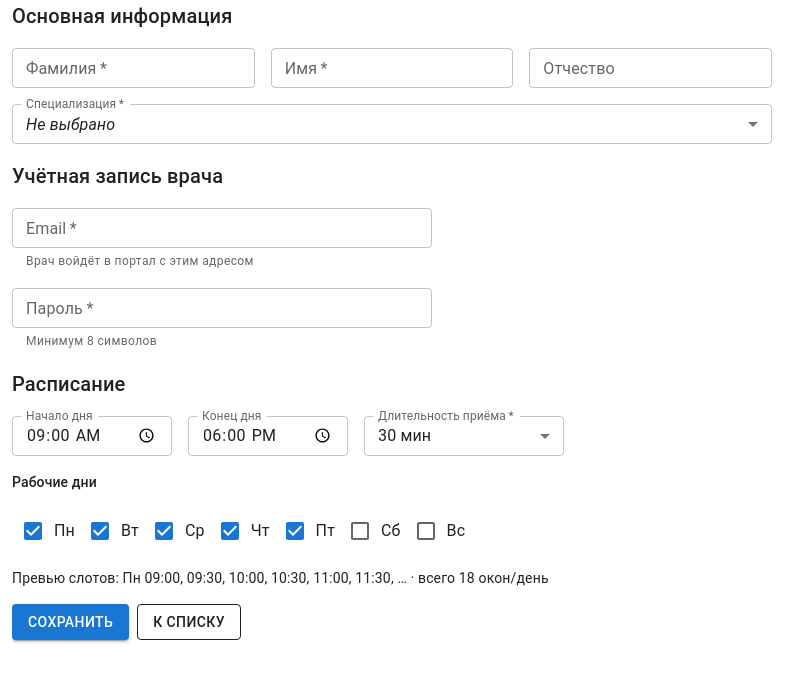
DoctorForm (3.2: форма врача) › селектор длительности: старт 30, только опции 5/10/15/20/30 (кратно часу)
Note: открываются только допустимые длительности
Press the mouse on the dropdown named "Длительность приёма" at (405, 436), box [378,426,431,445]
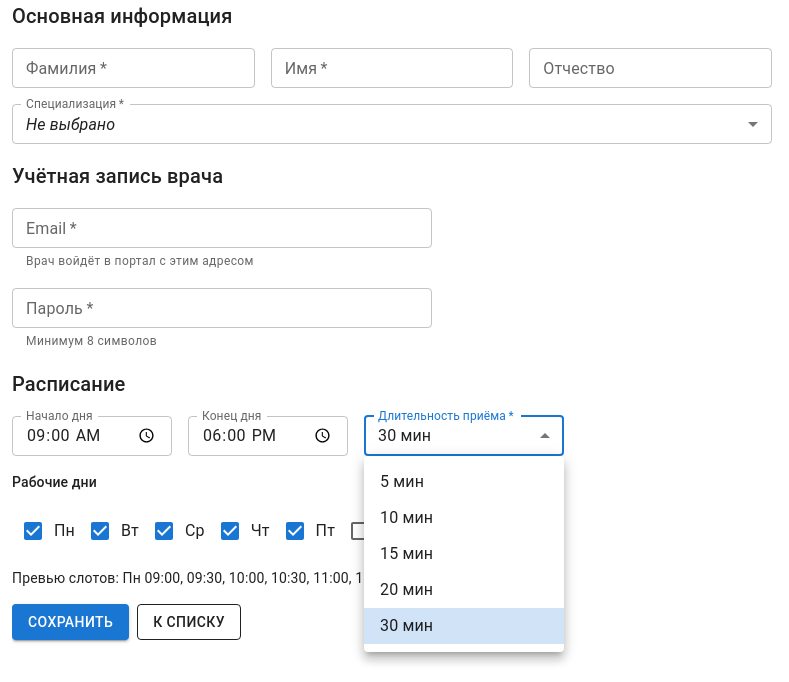
Expected: the options read "5 мин", "10 мин", "15 мин", "20 мин", "30 мин", in this order
Note: выбор опции обновляет значение
Click the option "15 мин". click: (407, 554)
box: [380,544,433,563]
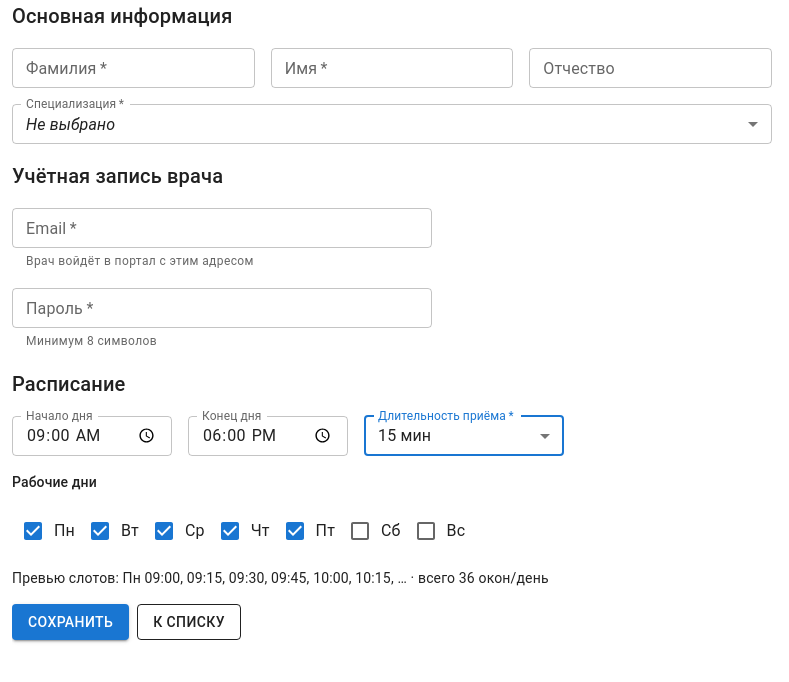
Expected: the dropdown named "Длительность приёма" shows "15", [378,426,431,445]
